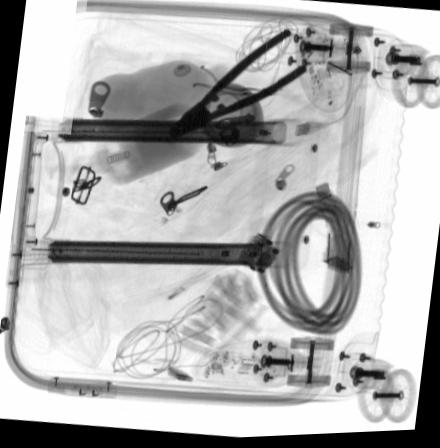Pliers: (169, 30, 307, 138)
